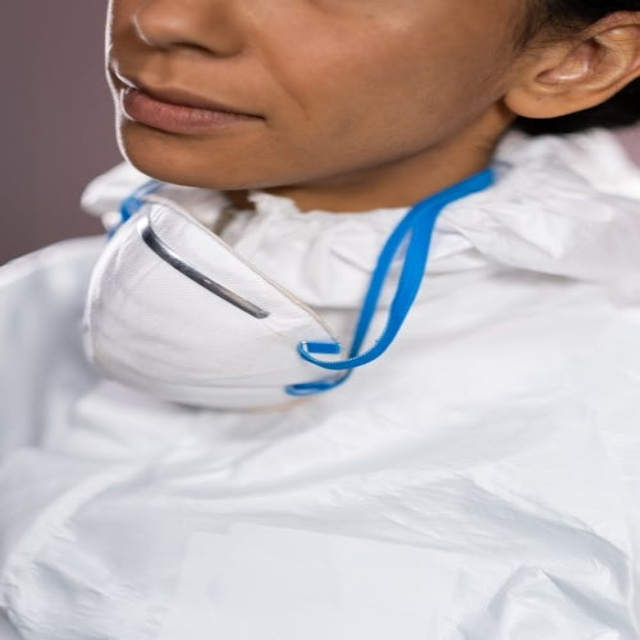Sin_mascara: (101, 51, 349, 174)
